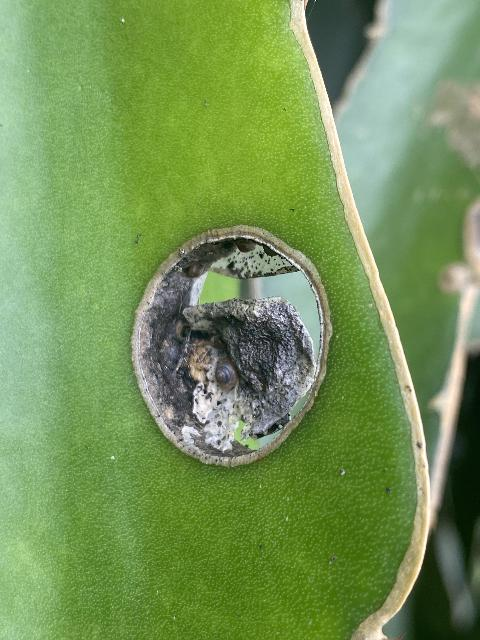stemcanker: (122, 221, 334, 473)
